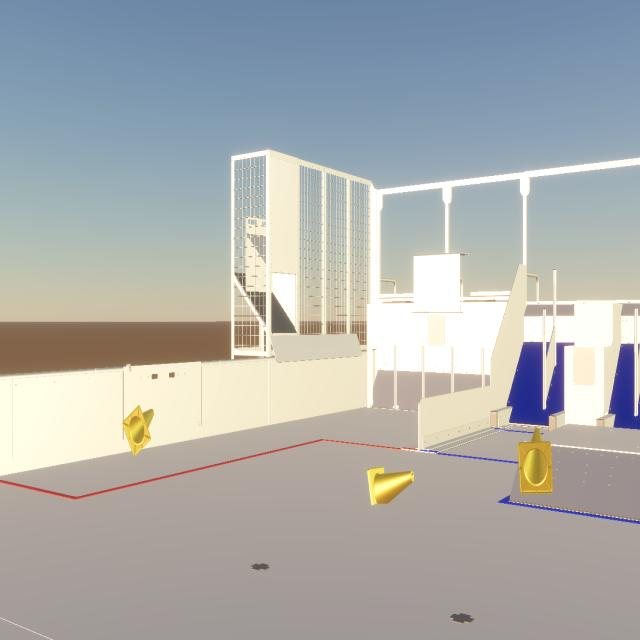frc_cone: (518, 428, 553, 494), (367, 466, 414, 505), (122, 406, 154, 456)
